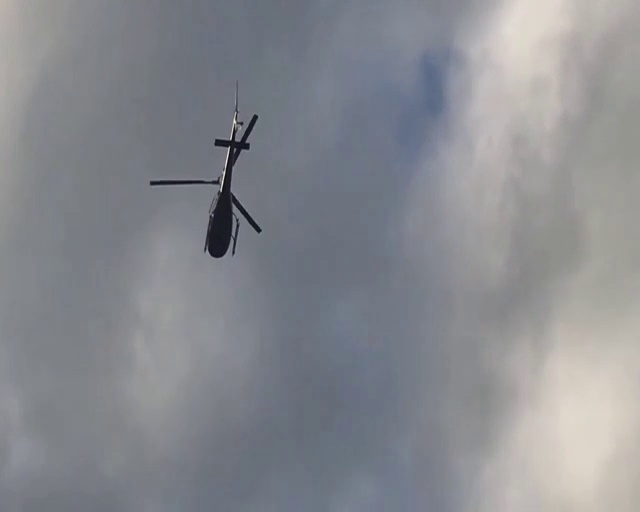HELICOPTER: (147, 84, 266, 259)
